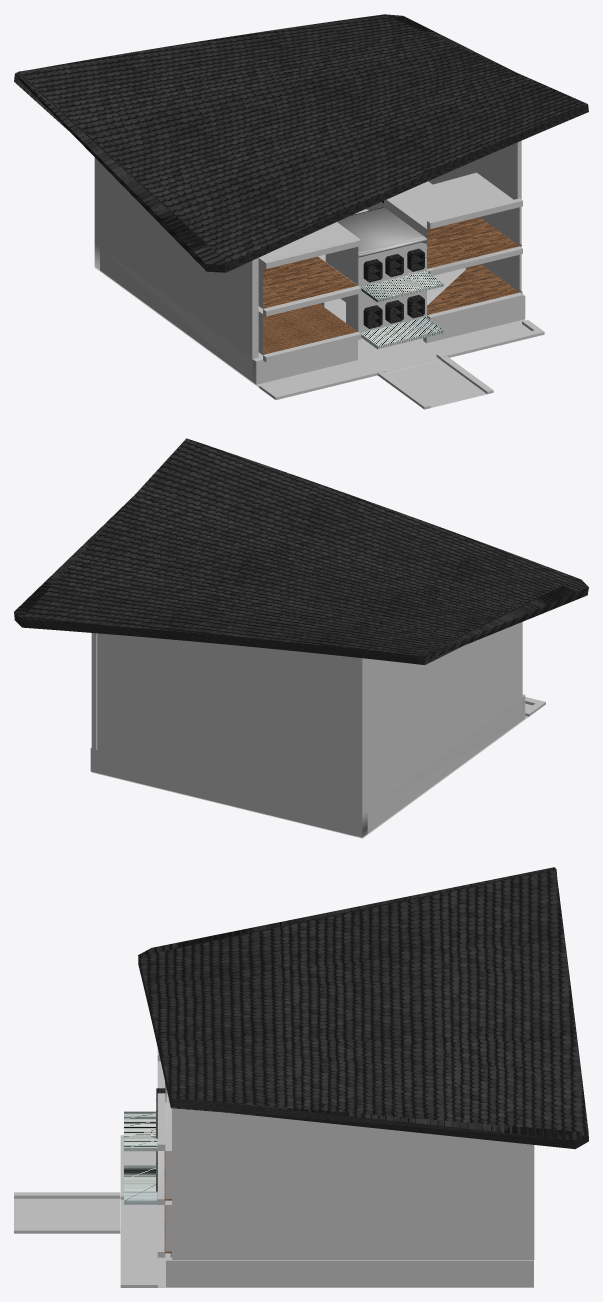
The model's file is CentroComercialFinalBlack.fbx.
The picture shows the model from 3 angles, top to bottom: view 1: azimuth 30°, elevation 25°; view 2: azimuth 150°, elevation 25°; view 3: azimuth 270°, elevation 25°; orthographic projection. The views are drawn at different scales.
Parts seen in each view (by area): view 1: Cube, EstructuraMall; view 2: Cube, EstructuraMall; view 3: Cube, EstructuraMall.
Part boxes in pixels (x1,y1,x2,y2): Cube: (14, 14, 588, 272); EstructuraMall: (94, 140, 544, 409); Cube: (14, 438, 588, 664); EstructuraMall: (90, 622, 545, 838); Cube: (138, 867, 588, 1149); EstructuraMall: (14, 1048, 534, 1287).
Size of the model in its own units: 3898 by 1902 by 4198.
